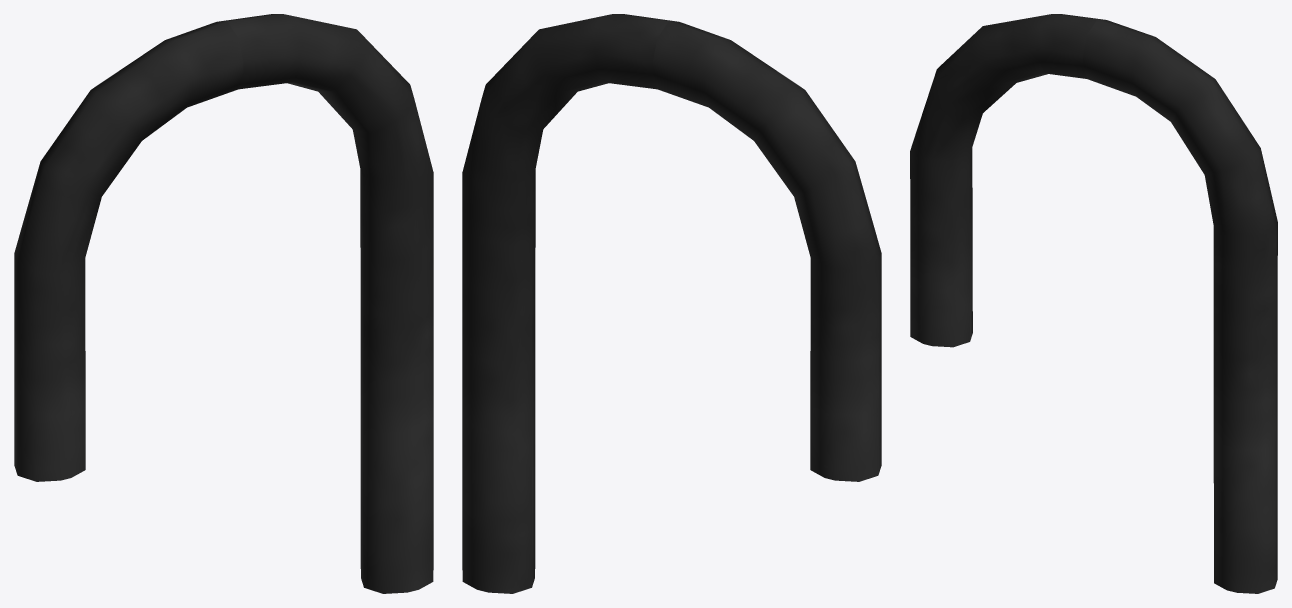
The model's file is padlock_4_shackle.fbx.
The picture shows the model from 3 angles, left to right: view 1: azimuth 30°, elevation 25°; view 2: azimuth 150°, elevation 25°; view 3: azimuth 330°, elevation 25°; orthographic projection. The views are drawn at different scales.
Visible parts, largest first — view 1: padlock_4_shackle; view 2: padlock_4_shackle; view 3: padlock_4_shackle.
Part boxes in pixels (x1,y1,x2,y2): padlock_4_shackle: (14,14,433,593); padlock_4_shackle: (462,14,881,593); padlock_4_shackle: (910,14,1277,593).
Size of the model in its own units: 0.0686 by 0.0091 by 0.0951.
